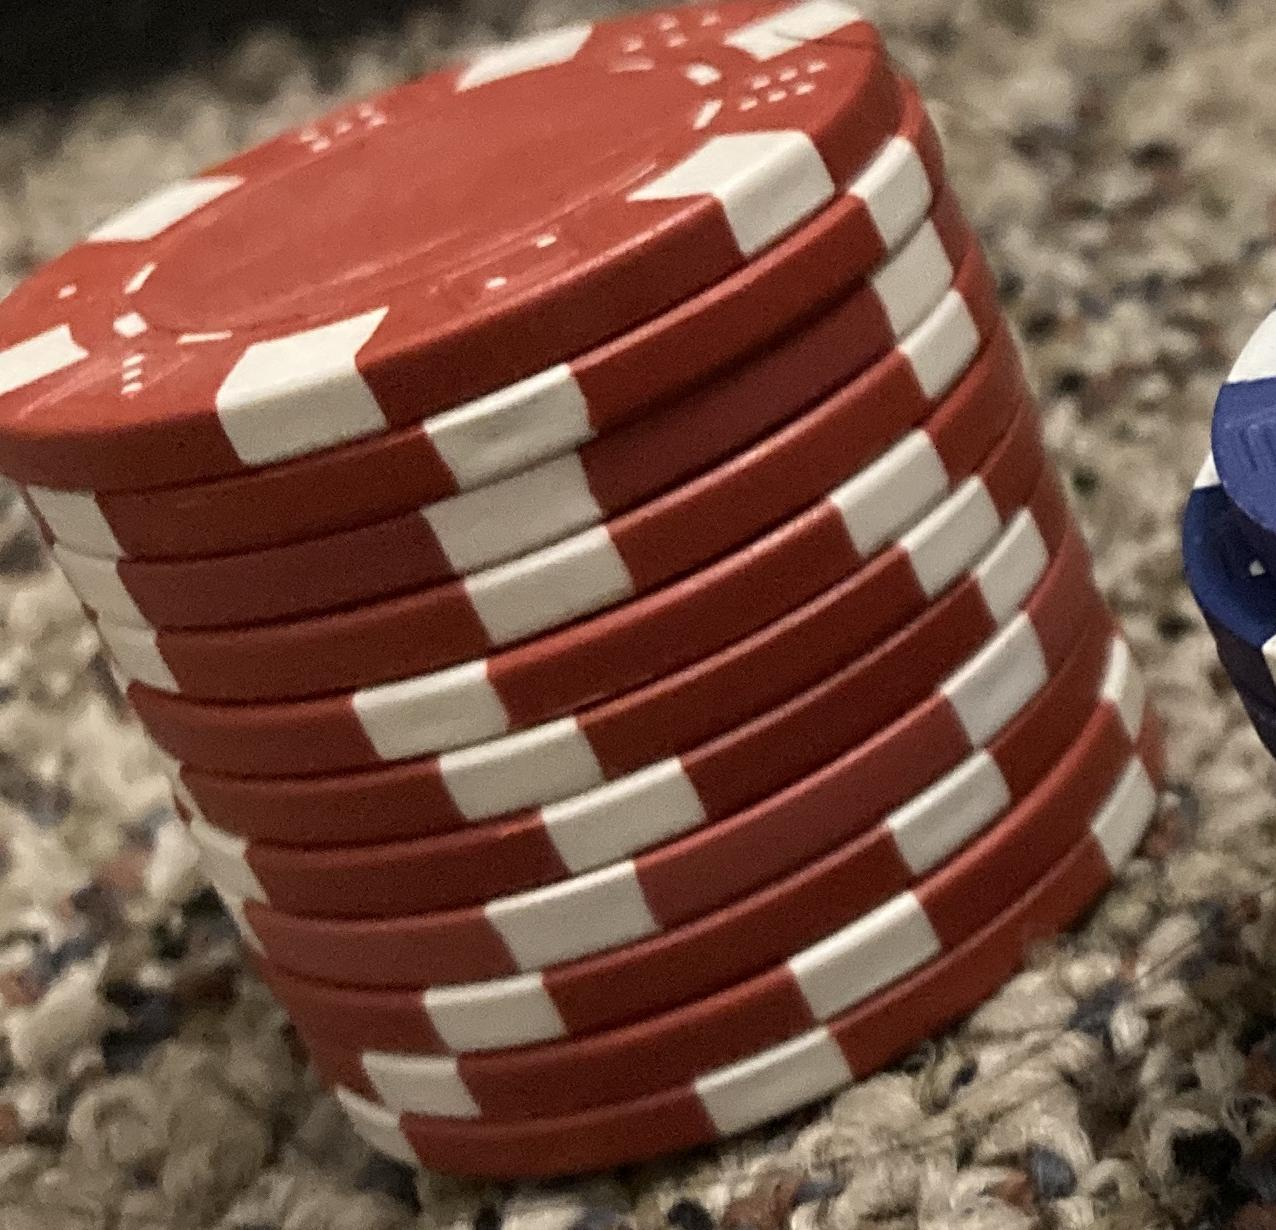Chip: (1, 1, 1276, 1230)
